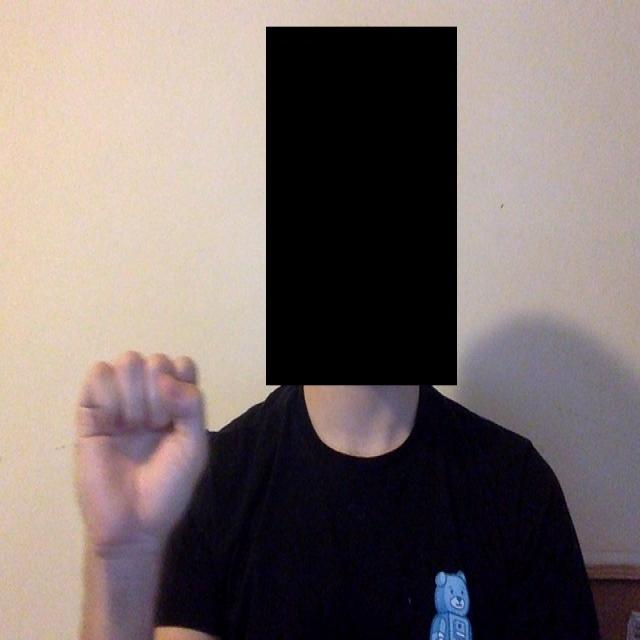S: (46, 312, 222, 543)
